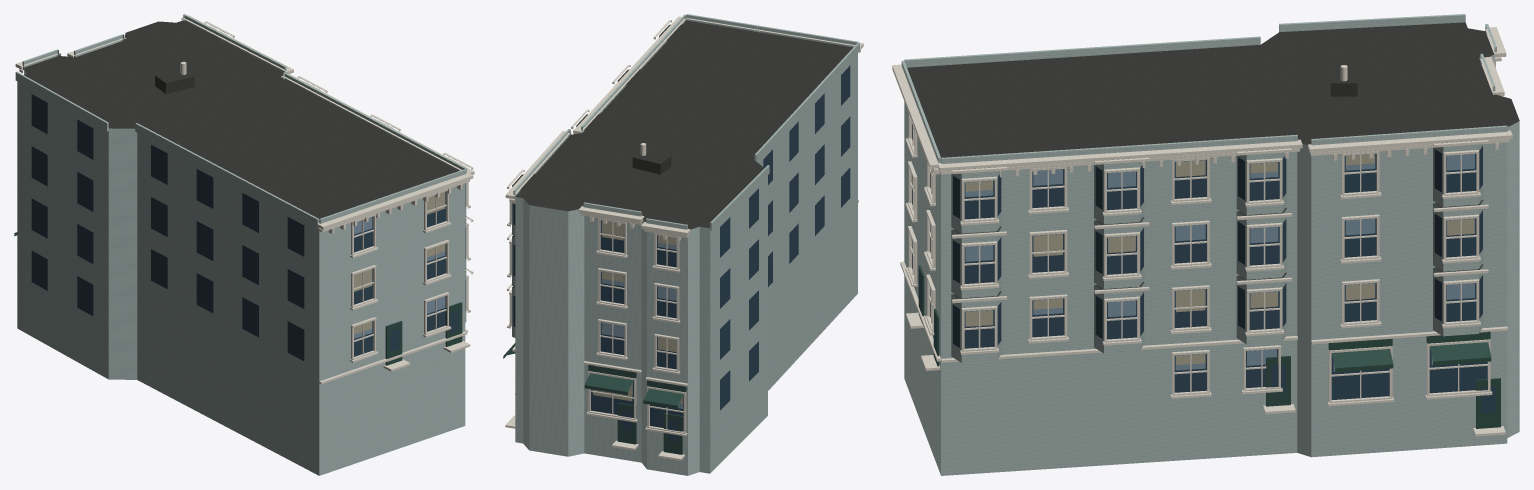
3 views of the same model, side by side, from view 1: azimuth 30°, elevation 25°; view 2: azimuth 150°, elevation 25°; view 3: azimuth 270°, elevation 25° (orthographic). The views are drawn at different scales.
Parts seen in each view (by area): view 1: Footprint 0 / surface 2, Footprint 0 / surface 1, Inset glazing, Cornices and window frames, Facade bay volumes, Storefronts and doors, Interior blind variation, Sky reflection panels; view 2: Footprint 0 / surface 2, Footprint 0 / surface 1, Inset glazing, Cornices and window frames, Facade bay volumes, Storefronts and doors, Interior blind variation, Sky reflection panels; view 3: Footprint 0 / surface 2, Footprint 0 / surface 1, Cornices and window frames, Inset glazing, Facade bay volumes, Sky reflection panels, Storefronts and doors, Interior blind variation, Roof.
Boxes of the visible parts, left/top/right/bottom form: Footprint 0 / surface 2: left=17, top=68, right=465, bottom=475; Footprint 0 / surface 1: left=24, top=20, right=458, bottom=218; Inset glazing: left=31, top=94, right=465, bottom=360; Cornices and window frames: left=15, top=15, right=474, bottom=384; Facade bay volumes: left=15, top=14, right=466, bottom=322; Storefronts and doors: left=14, top=232, right=462, bottom=365; Interior blind variation: left=354, top=192, right=445, bottom=334; Sky reflection panels: left=354, top=217, right=445, bottom=338; Footprint 0 / surface 2: left=515, top=53, right=857, bottom=475; Footprint 0 / surface 1: left=515, top=20, right=852, bottom=229; Inset glazing: left=513, top=65, right=850, bottom=441; Cornices and window frames: left=505, top=16, right=863, bottom=460; Facade bay volumes: left=512, top=14, right=859, bottom=337; Storefronts and doors: left=503, top=343, right=686, bottom=454; Interior blind variation: left=593, top=220, right=682, bottom=403; Sky reflection panels: left=601, top=220, right=682, bottom=408; Footprint 0 / surface 2: left=904, top=55, right=1519, bottom=475; Footprint 0 / surface 1: left=907, top=22, right=1519, bottom=157; Cornices and window frames: left=892, top=27, right=1512, bottom=436; Inset glazing: left=912, top=124, right=1495, bottom=413; Facade bay volumes: left=901, top=14, right=1507, bottom=362; Sky reflection panels: left=912, top=154, right=1474, bottom=371; Storefronts and doors: left=918, top=265, right=1500, bottom=428; Interior blind variation: left=911, top=154, right=1474, bottom=364; Roof: left=952, top=140, right=1483, bottom=298.
Size of the model in its own units: 15.84 by 16.39 by 27.6.
